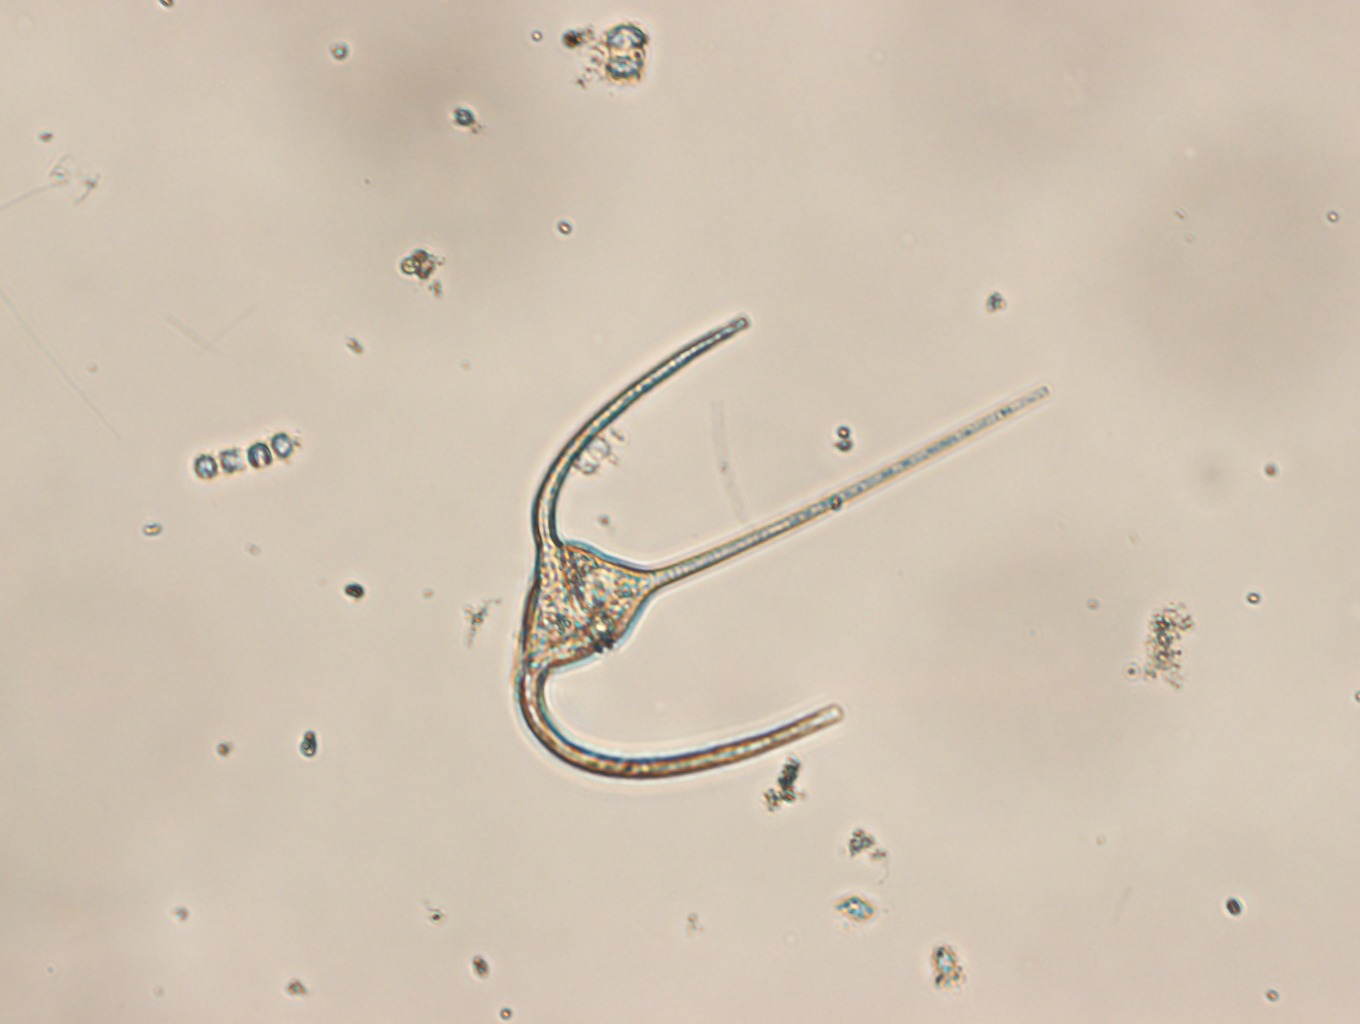ceratium trichoceros: (513, 312, 1053, 782)
